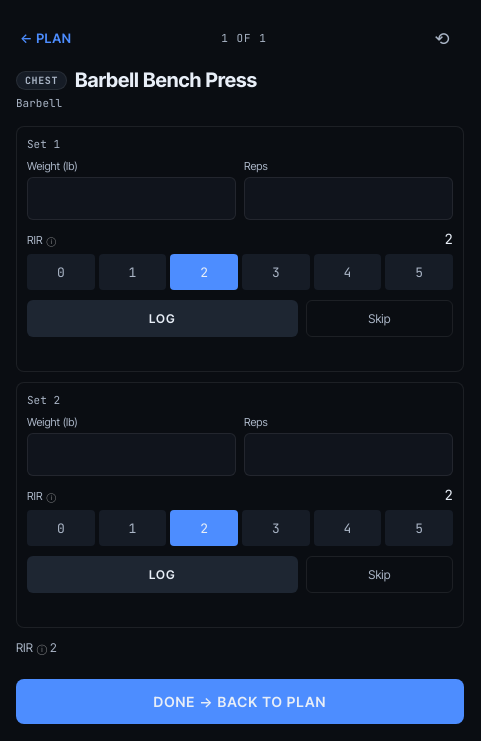
Test: <TodayLoggerMobile> › hub › back from the focus screen returns to the hub
Click the button with aria-label "back to plan" at (119, 38), box [16, 16, 221, 60]
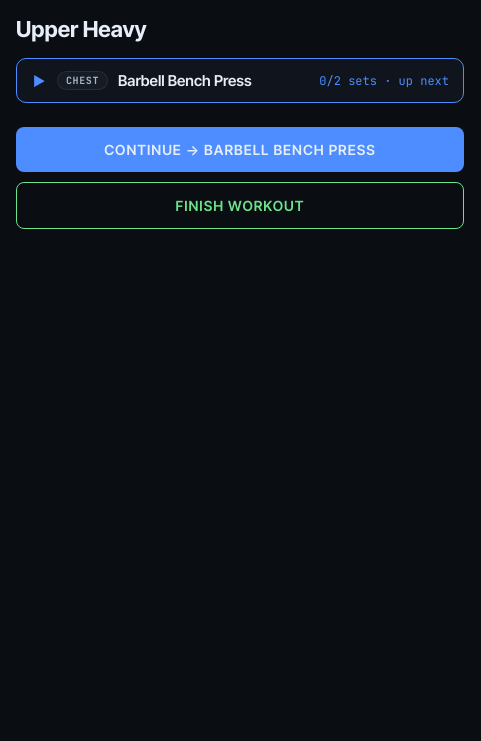
expect the button with test id "hub-row-0" is shown: met, box [16, 58, 464, 103]
expect the element with test id "set-row-0" is gone: met
